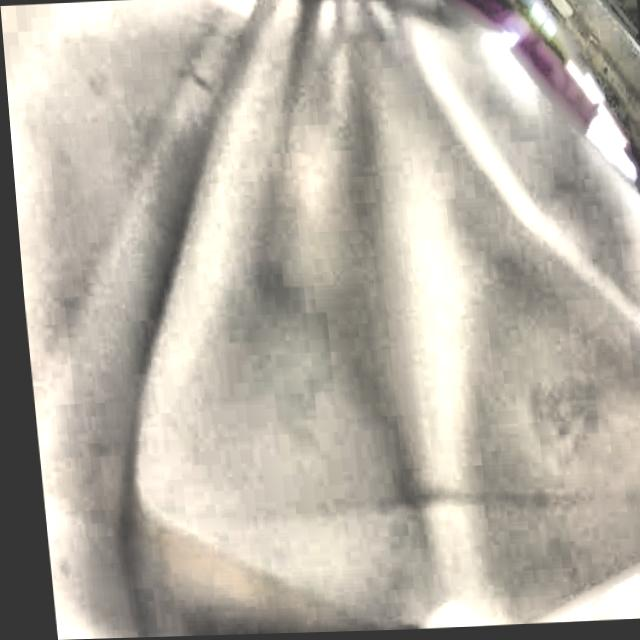Plastic: (62, 1, 640, 628)
